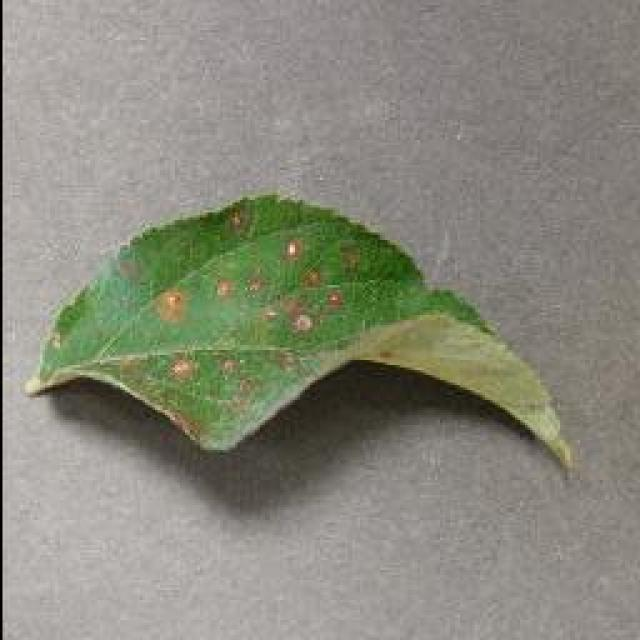apple rust disease: (22, 190, 572, 475)
